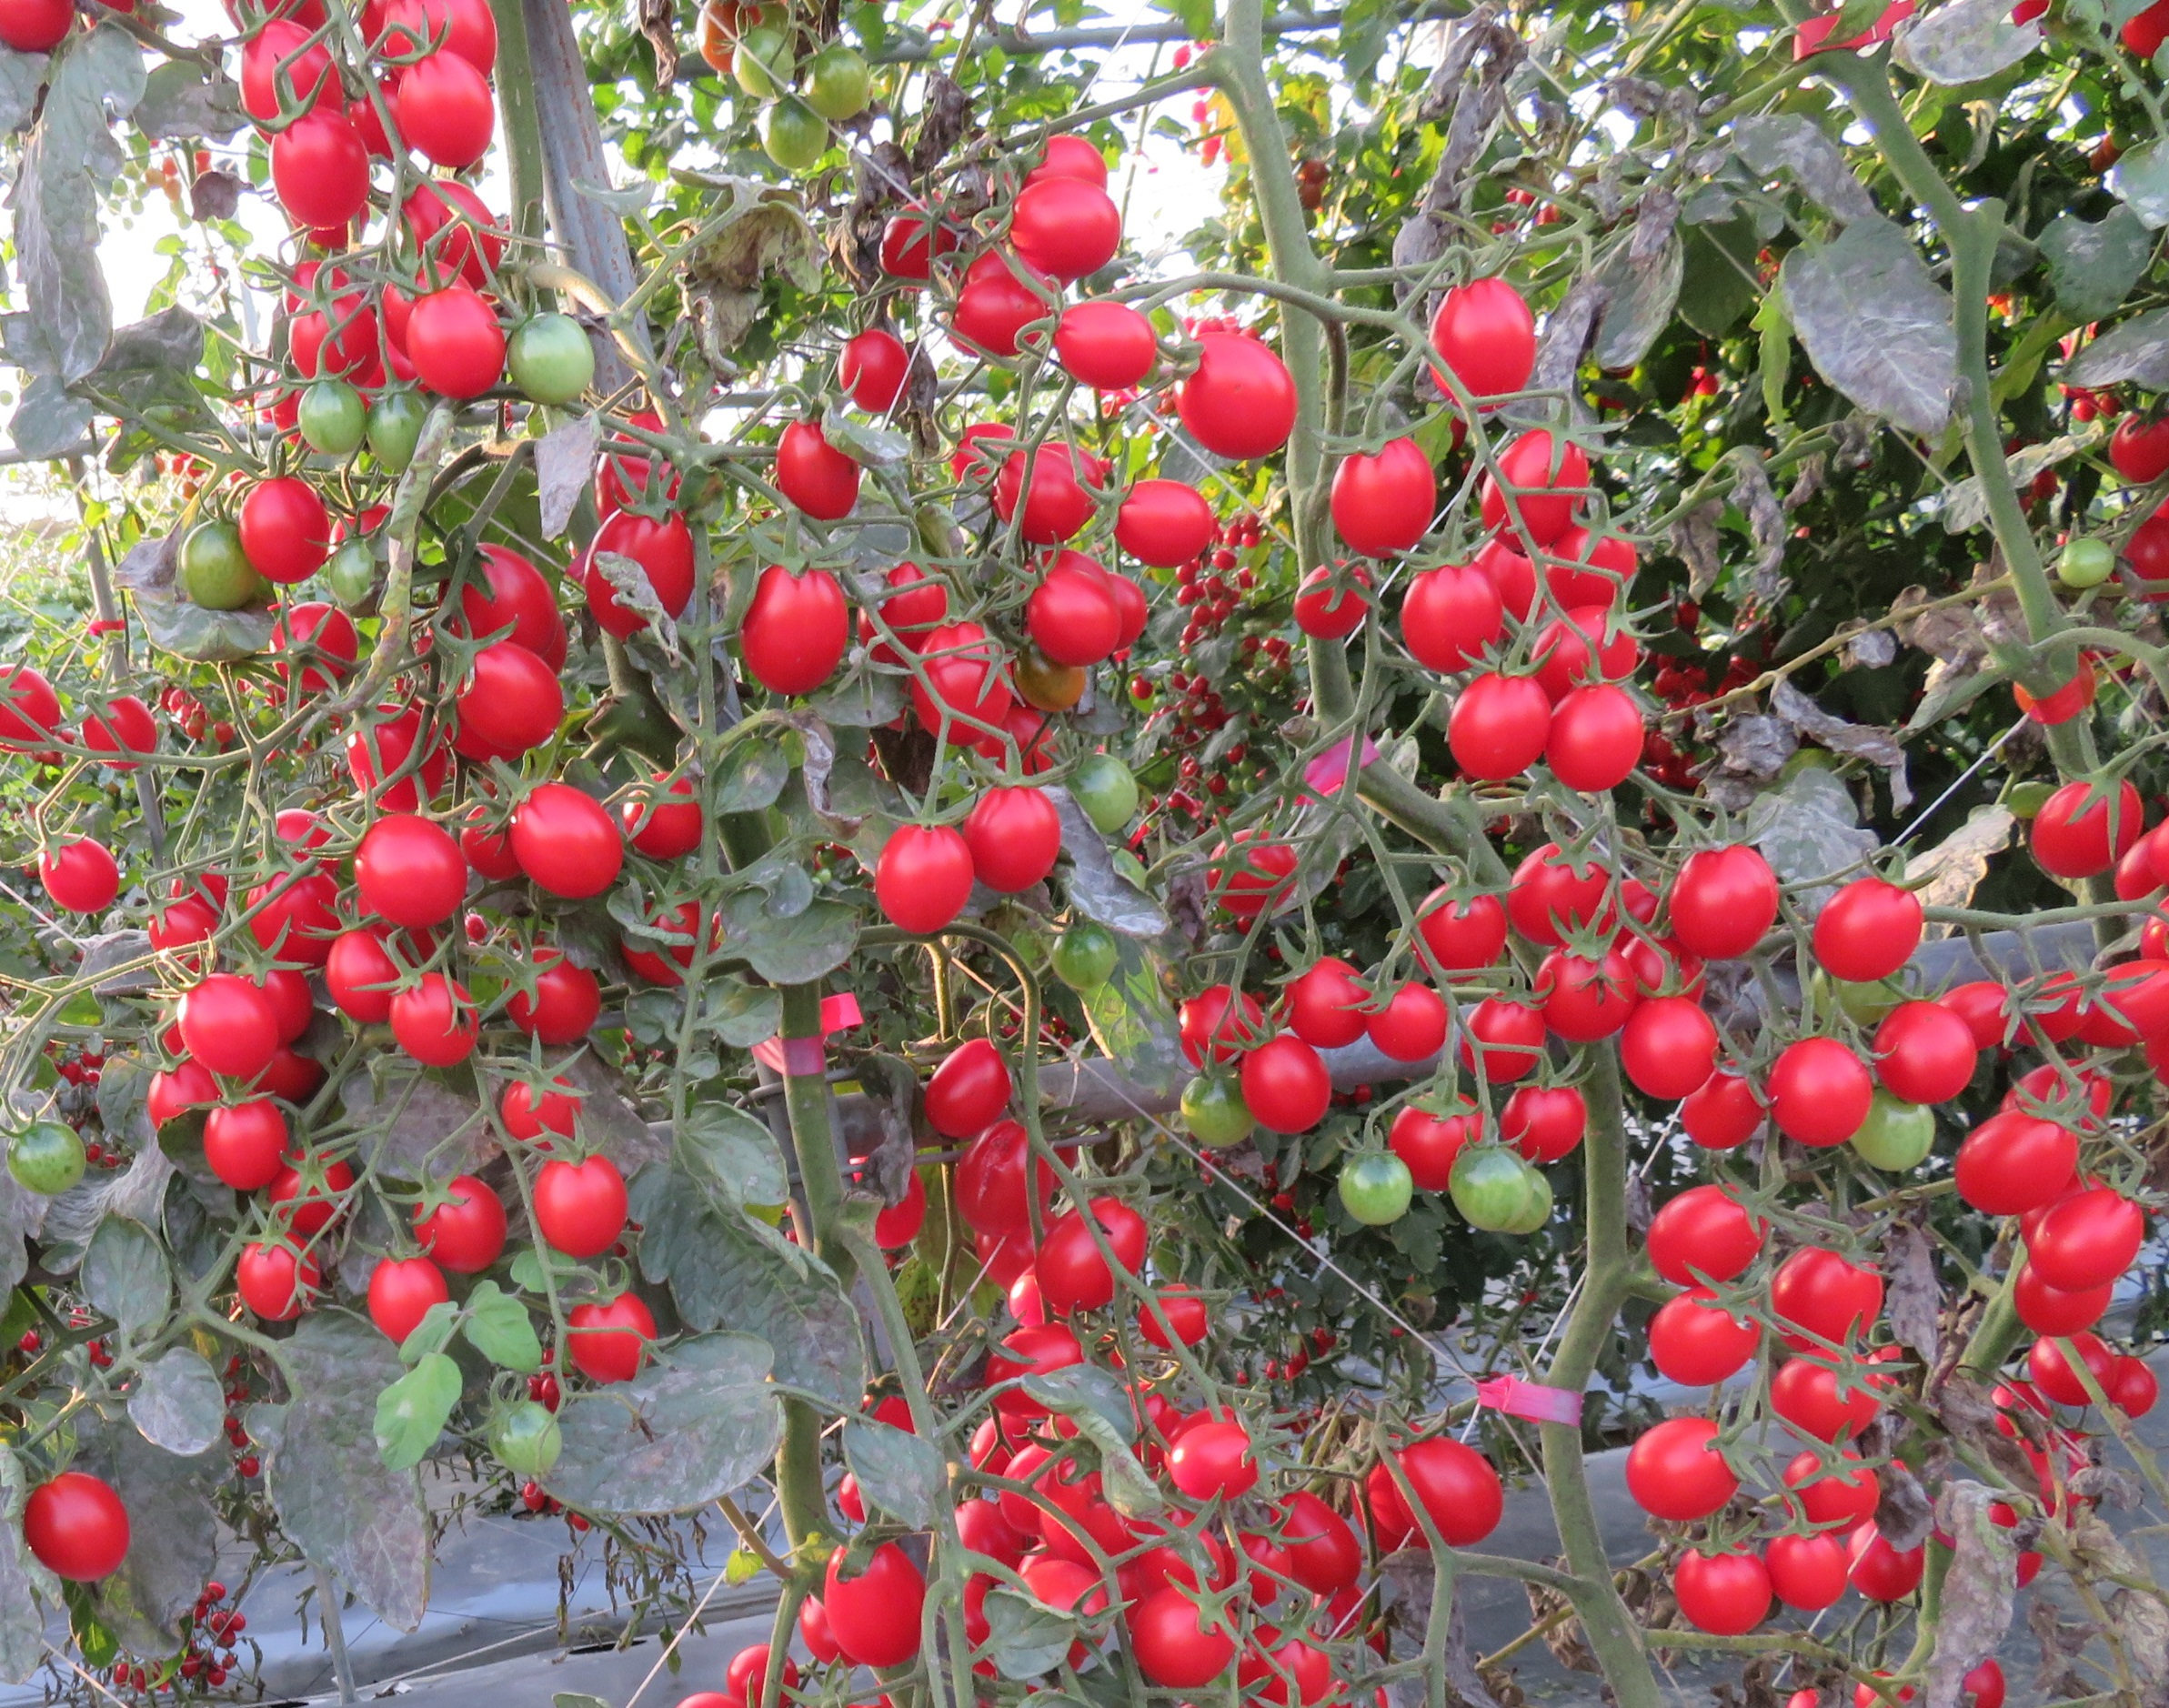green: (500, 312, 606, 405), (1444, 1136, 1530, 1238), (477, 1395, 569, 1483), (178, 512, 259, 611), (9, 1118, 104, 1197), (1065, 743, 1141, 842), (282, 373, 364, 456), (803, 40, 879, 127), (1333, 1145, 1414, 1224), (364, 382, 428, 475), (727, 26, 798, 100), (2049, 532, 2121, 600), (1176, 1060, 1234, 1145), (762, 100, 819, 173), (326, 534, 375, 609), (1051, 921, 1106, 984)
red: (583, 495, 699, 644), (1176, 324, 1299, 463), (1944, 1099, 2083, 1222), (264, 99, 373, 254), (820, 1525, 923, 1676), (380, 44, 507, 164), (1030, 1196, 1155, 1312), (1333, 430, 1440, 563), (435, 541, 560, 655), (1386, 1433, 1507, 1550), (236, 16, 347, 143), (1618, 1412, 1748, 1520), (873, 814, 979, 946), (754, 548, 847, 696), (1095, 475, 1227, 579), (444, 643, 567, 752), (347, 815, 472, 923), (1440, 264, 1535, 405), (947, 1116, 1058, 1236), (401, 276, 504, 405), (21, 1469, 134, 1585), (1644, 1278, 1755, 1396), (1444, 664, 1553, 784), (1639, 1182, 1762, 1287), (1007, 181, 1137, 280), (1766, 1030, 1877, 1145), (505, 787, 623, 894), (243, 856, 350, 974), (1660, 847, 1771, 960), (1400, 556, 1505, 673), (2025, 1190, 2148, 1289), (526, 1153, 639, 1261), (2025, 780, 2139, 886), (1775, 1234, 1887, 1340), (271, 282, 382, 387), (1798, 877, 1915, 975), (1868, 1004, 1979, 1106), (178, 975, 282, 1083), (989, 444, 1097, 548), (910, 1037, 1016, 1141), (618, 886, 722, 991), (1613, 1007, 1720, 1109), (1551, 674, 1650, 784), (1410, 877, 1509, 986), (415, 1167, 512, 1278), (1125, 1587, 1232, 1685), (1665, 1537, 1771, 1636), (1025, 558, 1113, 674), (1051, 299, 1155, 396), (1505, 842, 1592, 958), (507, 949, 606, 1046), (197, 1097, 292, 1197), (563, 1291, 660, 1386), (618, 768, 715, 863), (1202, 826, 1301, 919), (974, 789, 1051, 903), (1551, 935, 1639, 1035), (35, 822, 123, 921), (1246, 1037, 1327, 1143), (393, 975, 482, 1069), (236, 1234, 322, 1331), (1167, 1421, 1264, 1507), (1368, 975, 1452, 1071), (835, 328, 917, 421), (783, 407, 854, 516), (371, 1248, 445, 1345), (320, 921, 393, 1020), (1771, 1525, 1854, 1608), (1292, 958, 1368, 1046), (500, 1072, 590, 1146), (1505, 1072, 1586, 1153), (81, 683, 157, 766), (1019, 129, 1113, 195), (2, 659, 62, 755), (1134, 1280, 1215, 1349), (722, 1643, 805, 1708), (143, 896, 222, 963), (2109, 407, 2169, 482), (2, 2, 81, 56), (519, 1479, 542, 1513), (206, 1668, 238, 1689), (1183, 674, 1208, 701), (1211, 546, 1239, 569), (238, 1451, 261, 1479), (570, 1509, 592, 1539), (206, 1609, 229, 1634), (1190, 600, 1211, 627), (1202, 768, 1224, 792), (1130, 676, 1150, 701), (114, 1657, 129, 1685)
